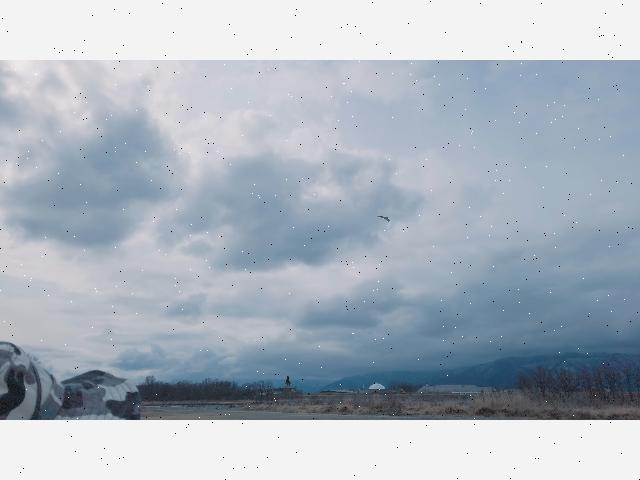Anti-Drone: (372, 206, 396, 227)
